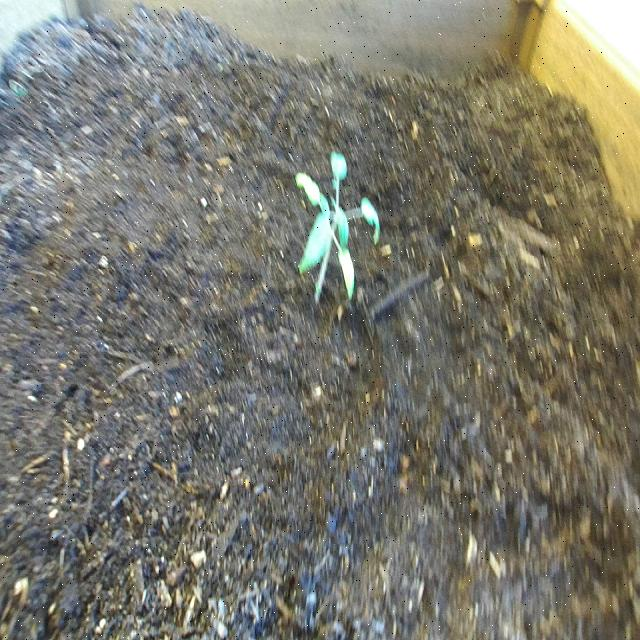Healthy: (293, 146, 382, 314)
